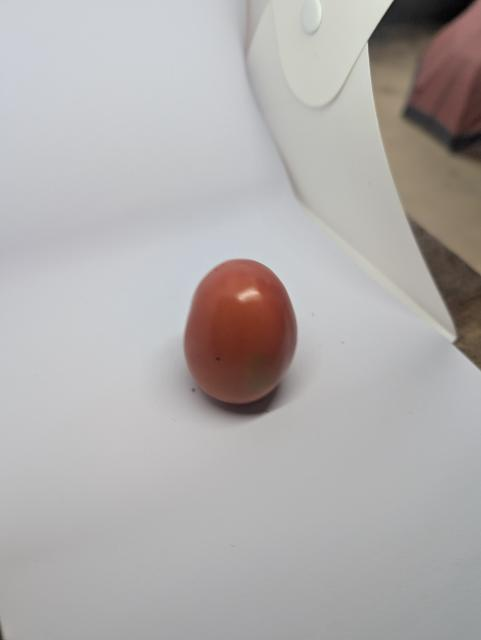red: (178, 253, 305, 408)
